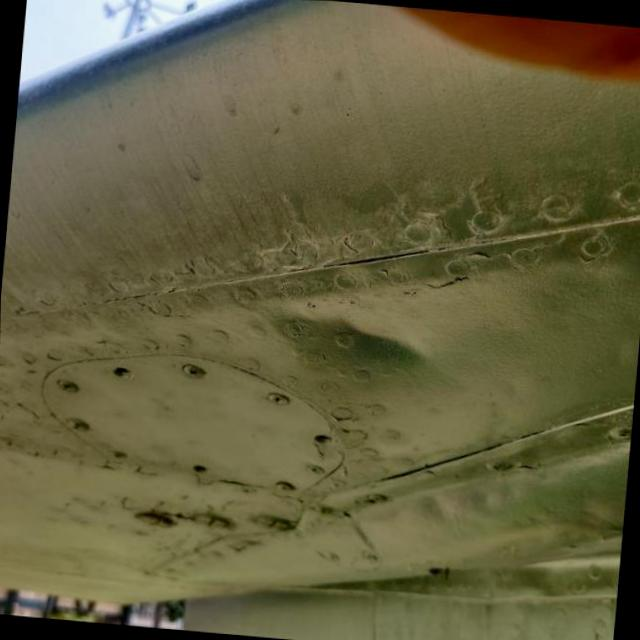Missing Fastener: (114, 364, 132, 376), (314, 433, 334, 443), (194, 466, 209, 472)
dent: (272, 313, 427, 372)
